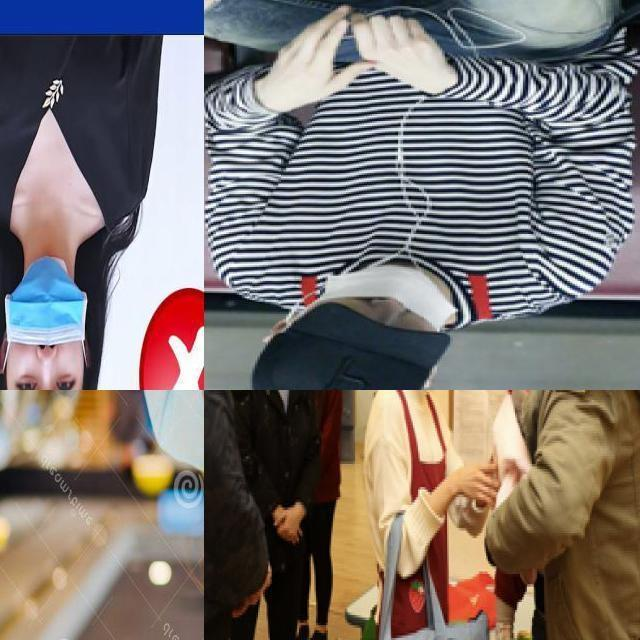hairnet: (258, 239, 489, 350), (0, 247, 109, 386)
no_apron: (260, 0, 357, 119), (351, 5, 455, 98), (439, 462, 498, 513), (279, 500, 310, 550)
